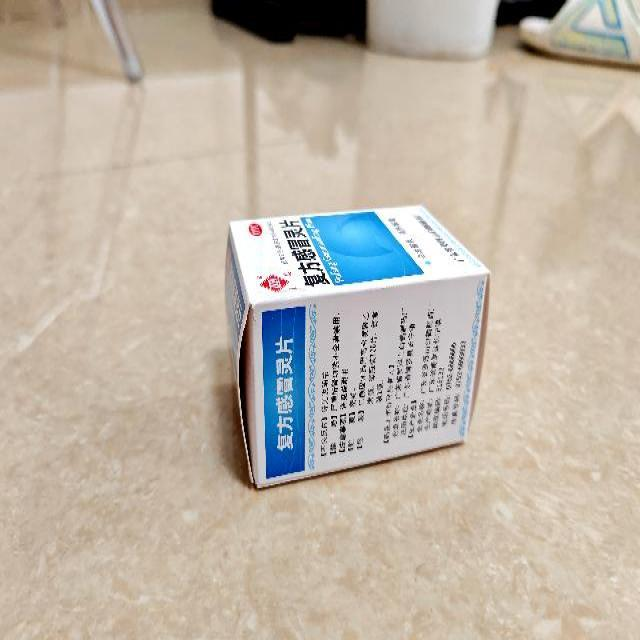box: (224, 204, 491, 488)
